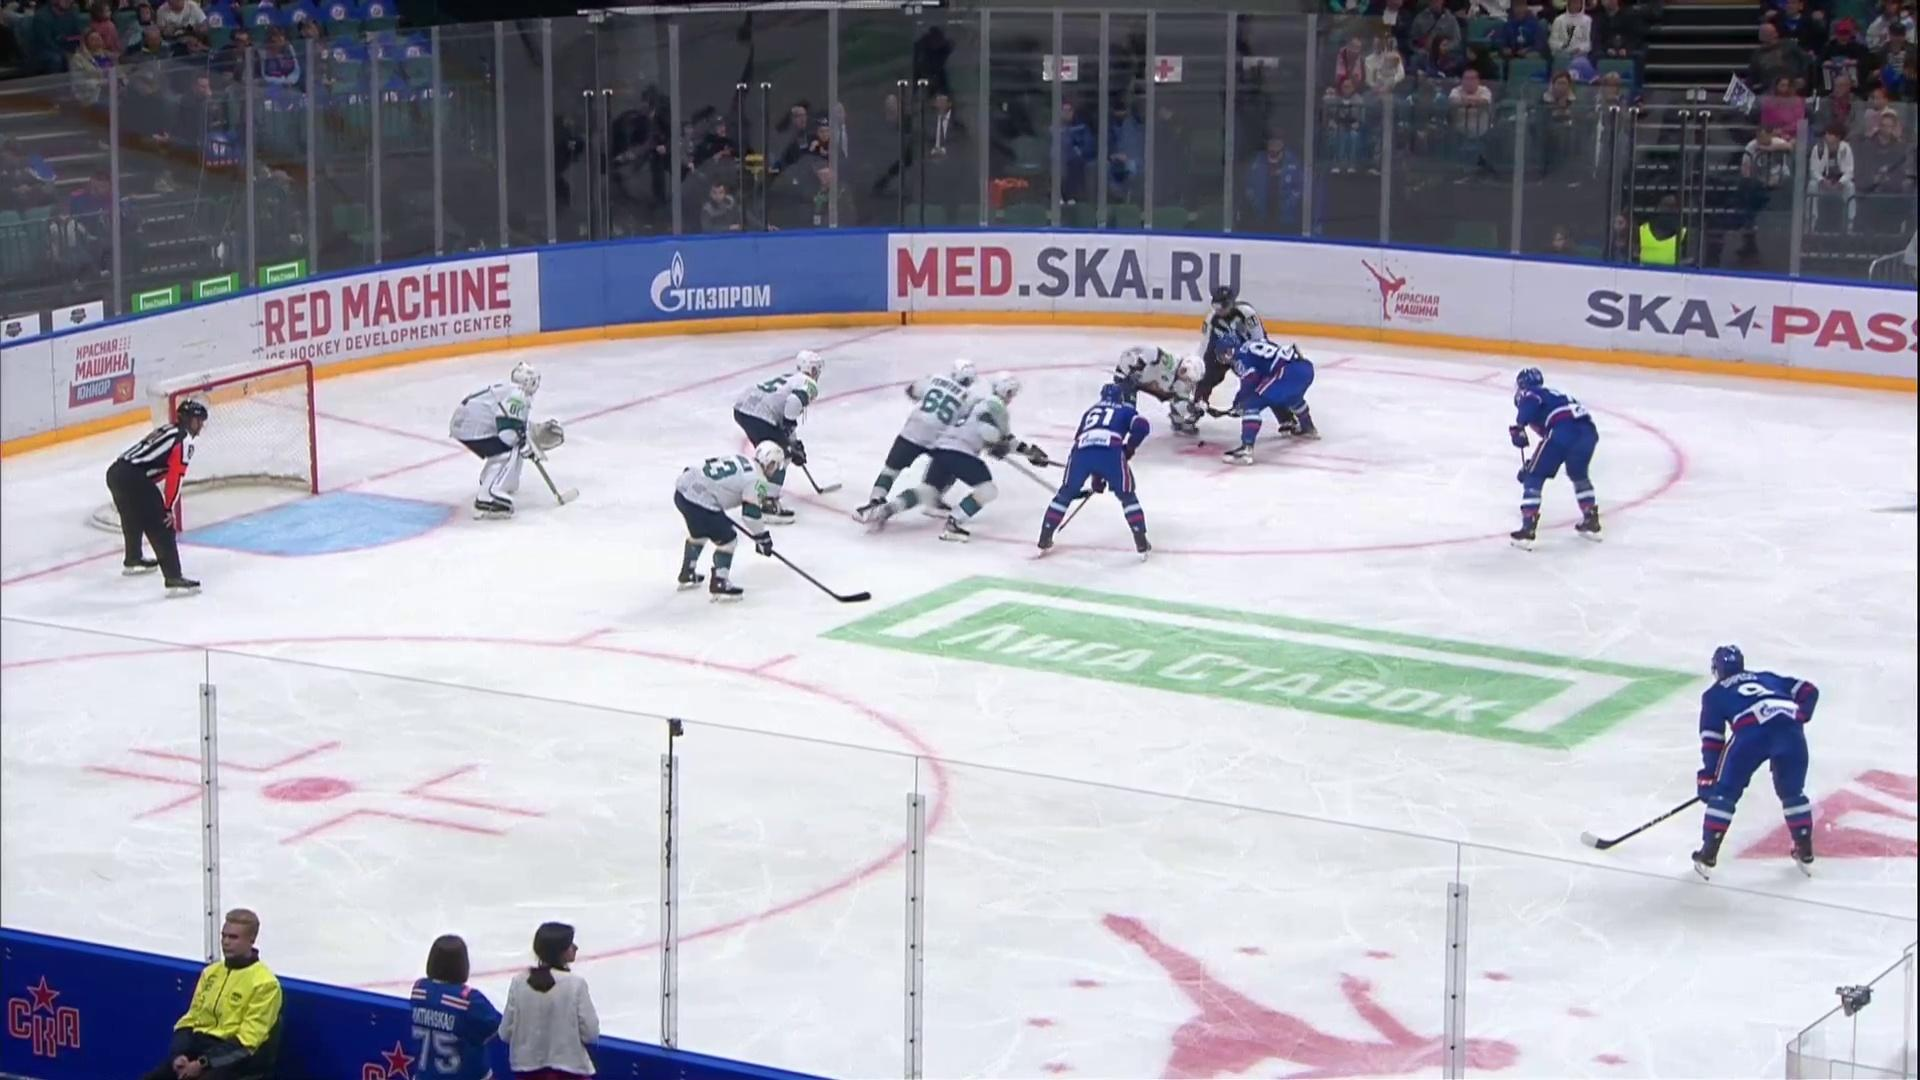ball: (1197, 439, 1205, 448)
